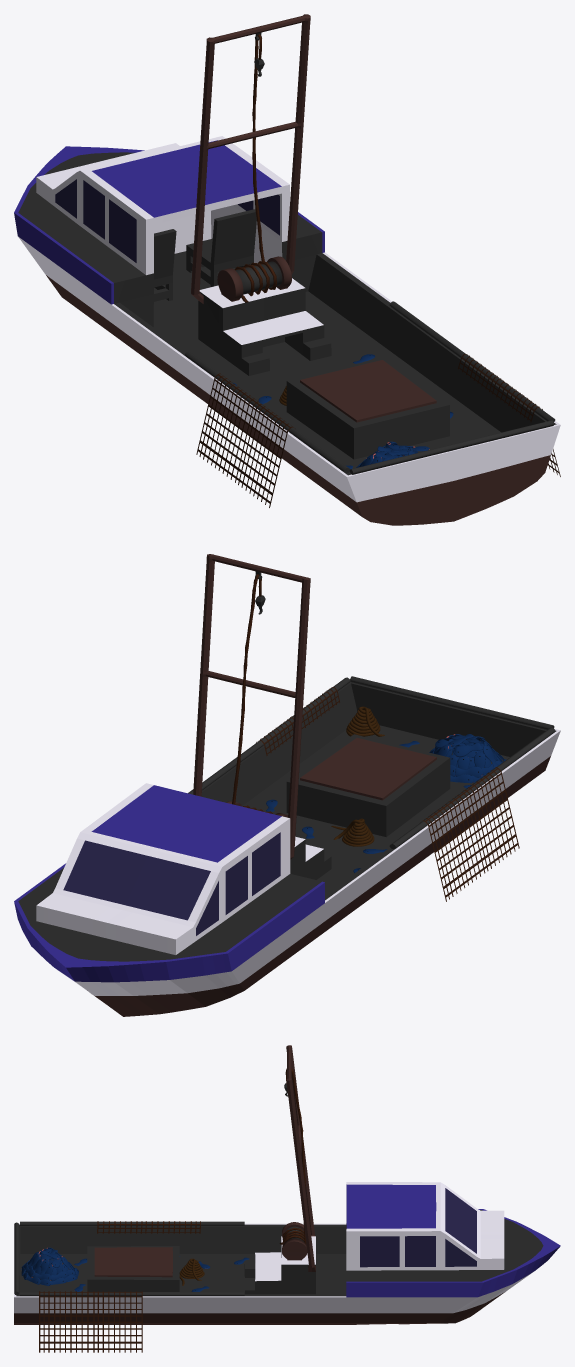
File: BoatFishing.fbx
3 renders of one model, top to bottom at view 1: azimuth 30°, elevation 25°; view 2: azimuth 150°, elevation 25°; view 3: azimuth 270°, elevation 25°, orthographic. The views are drawn at different scales.
Parts seen in each view (by area): view 1: Cube; view 2: Cube; view 3: Cube.
Boxes of the visible parts, box(x1,y1,x2,y2) form: Cube: box(14, 14, 560, 525); Cube: box(14, 554, 560, 1016); Cube: box(14, 1045, 560, 1352).
Size of the model in its own units: 1187 by 1599 by 3194.
